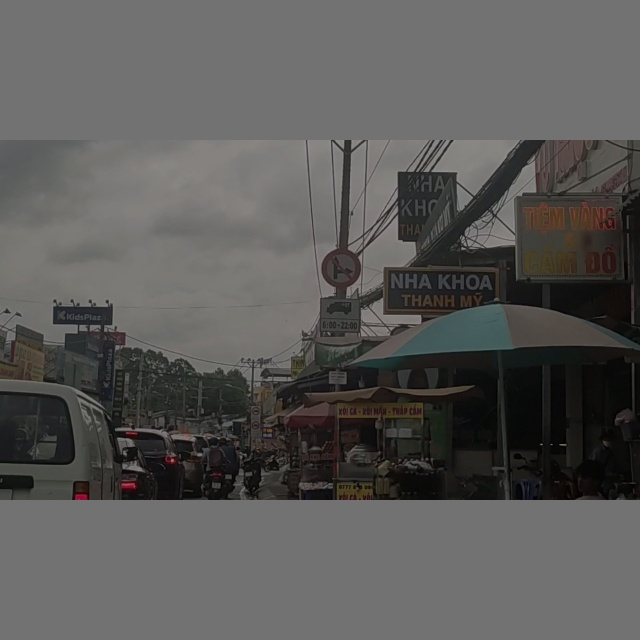P.139: (321, 249, 359, 288)
S.505a*Xe tai: (321, 299, 358, 332)
